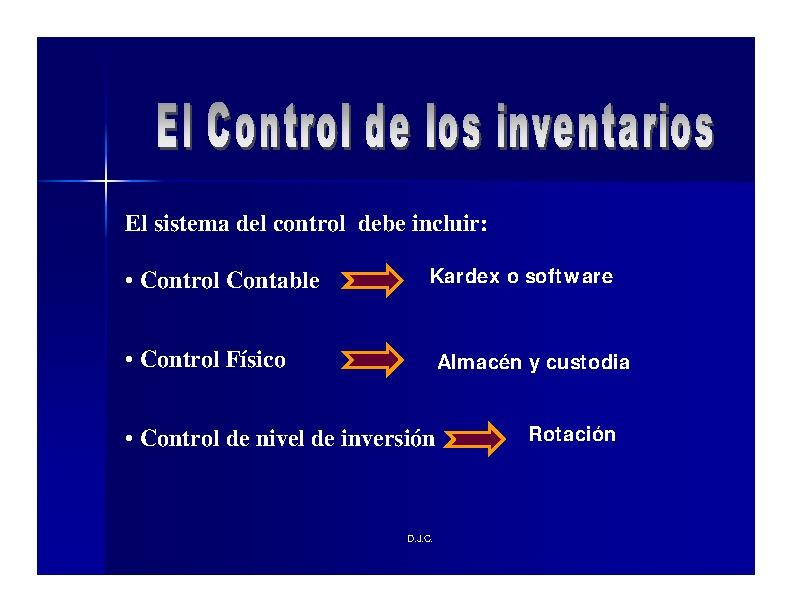paragraph: (115, 205, 680, 477)
title: (140, 82, 726, 161)
